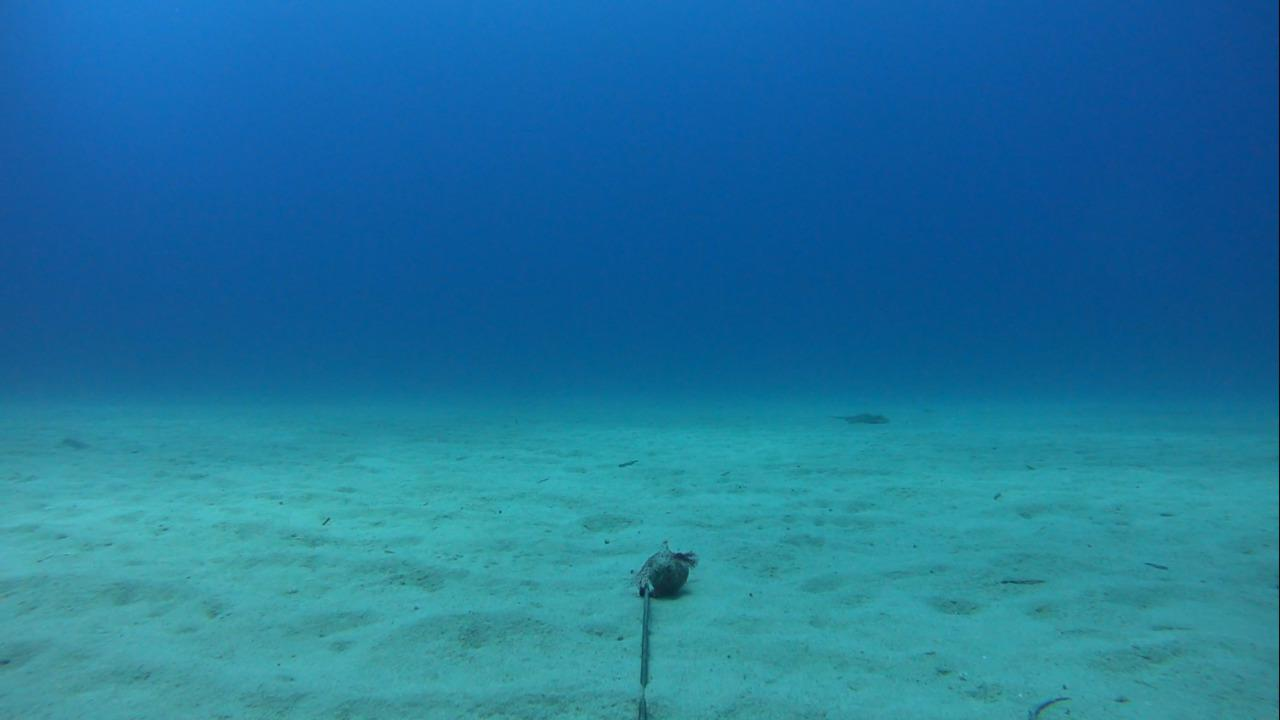myliobatis: (804, 406, 897, 429)
